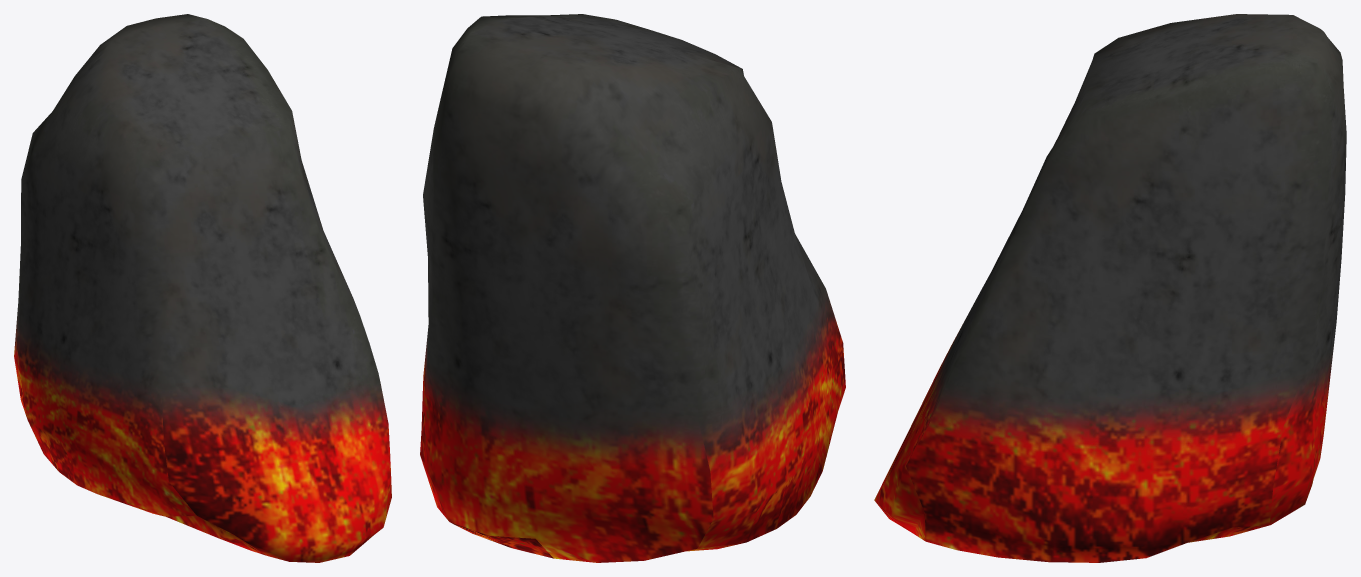
File: Rock_1.fbx
3 views of the same model, side by side, from view 1: azimuth 30°, elevation 25°; view 2: azimuth 150°, elevation 25°; view 3: azimuth 270°, elevation 25° (orthographic). The views are drawn at different scales.
Visible parts, largest first — view 1: Rock4UV:Group63710; view 2: Rock4UV:Group63710; view 3: Rock4UV:Group63710.
Boxes of the visible parts, x1,y1,x2,y2 form: Rock4UV:Group63710: [14, 14, 391, 562]; Rock4UV:Group63710: [420, 14, 845, 562]; Rock4UV:Group63710: [874, 14, 1346, 562].
Size of the model in its own units: 2.31 by 3.22 by 2.87.
1 material, 1 textured.
